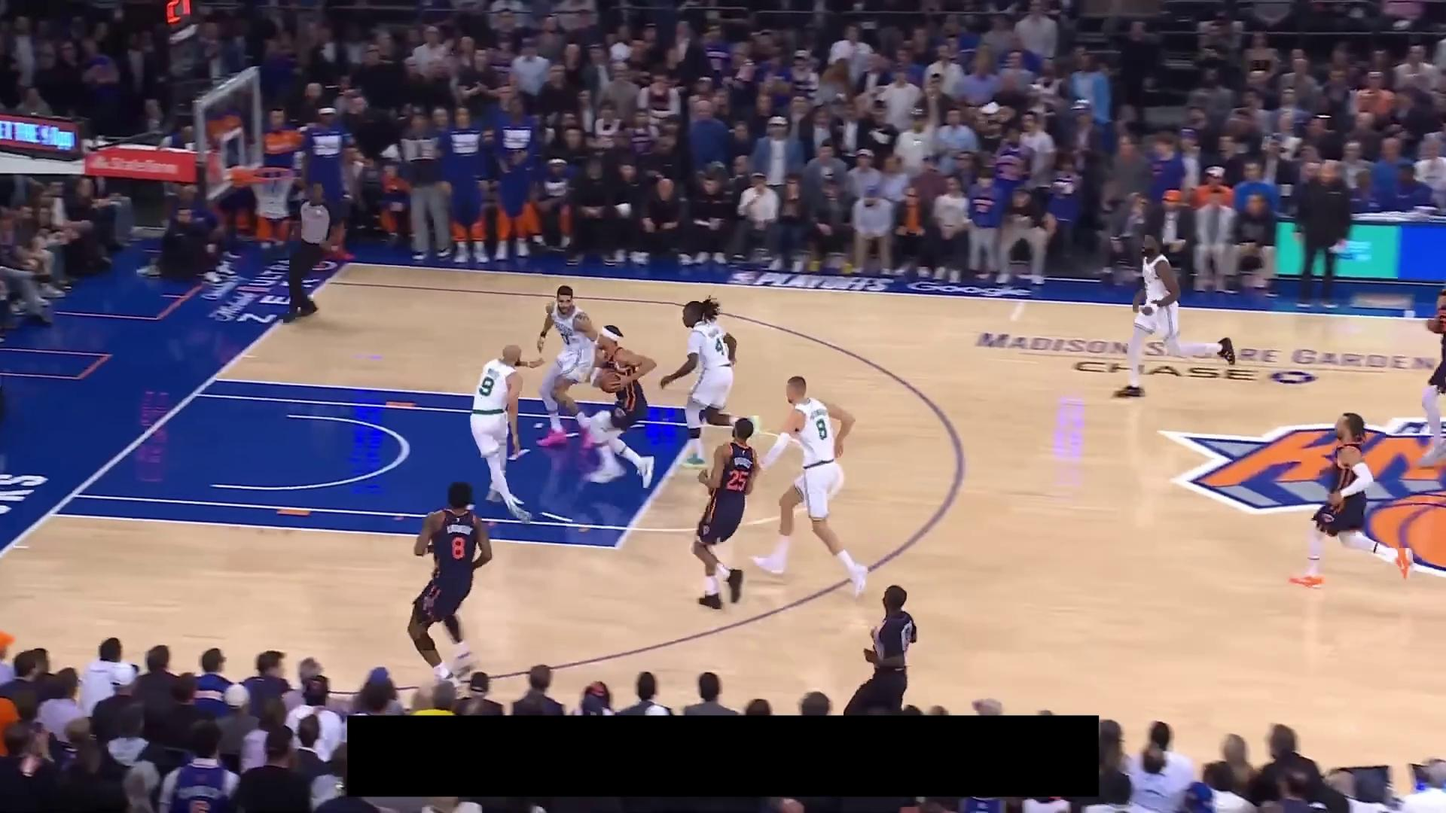ball: (597, 365, 625, 394)
number: (725, 468, 750, 493), (477, 376, 497, 398), (451, 534, 466, 562), (713, 335, 728, 358), (815, 417, 828, 440)
player: (752, 372, 872, 599), (1287, 410, 1419, 593), (1110, 228, 1240, 400), (403, 478, 496, 684), (656, 294, 743, 470), (689, 414, 763, 610), (471, 339, 548, 522), (534, 280, 605, 450), (1416, 276, 1446, 479)
player-in-possession: (580, 321, 659, 492)
referee: (278, 177, 348, 322), (846, 583, 921, 710)
rim: (252, 166, 294, 184)
